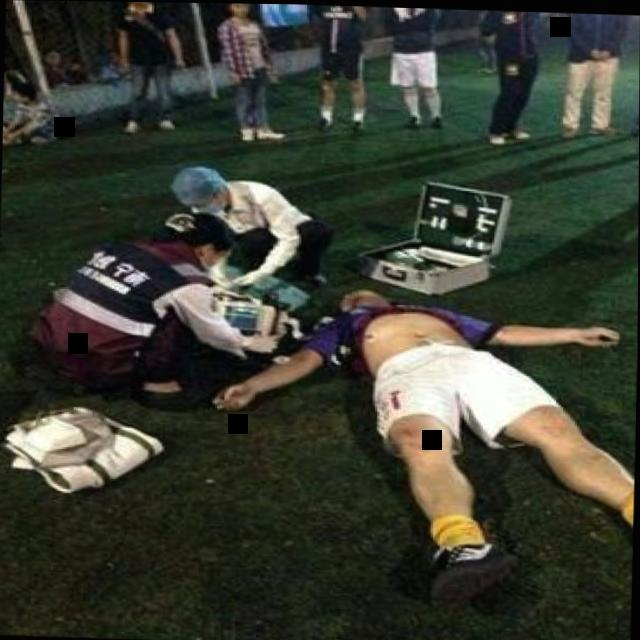Fall-Detected: (263, 264, 638, 608)
